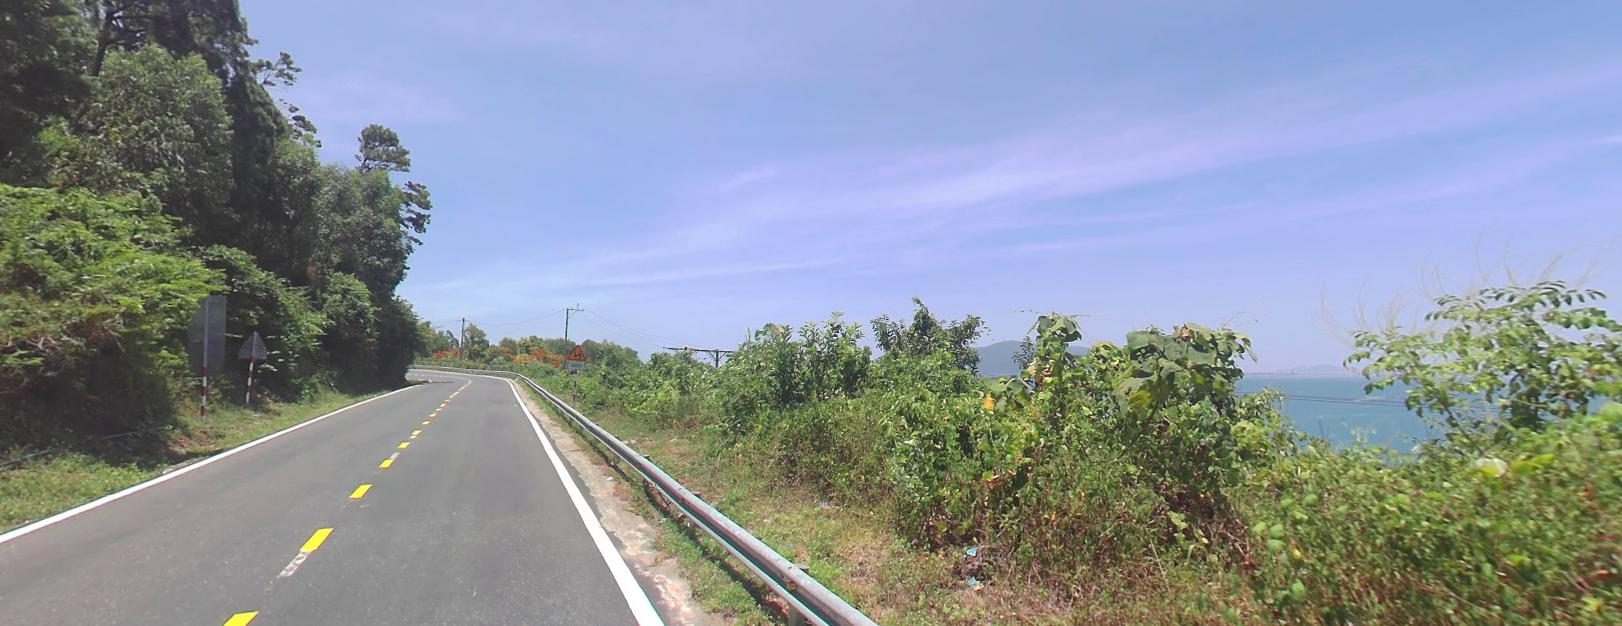Nguy hiem: (565, 339, 588, 361)
